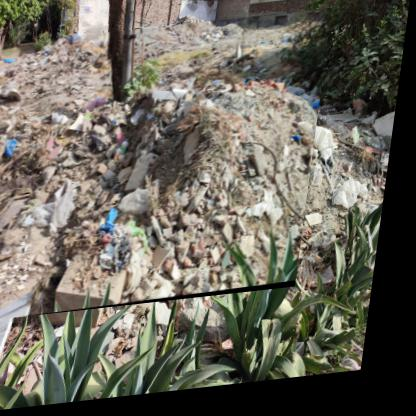Garbage: (1, 16, 335, 326)
